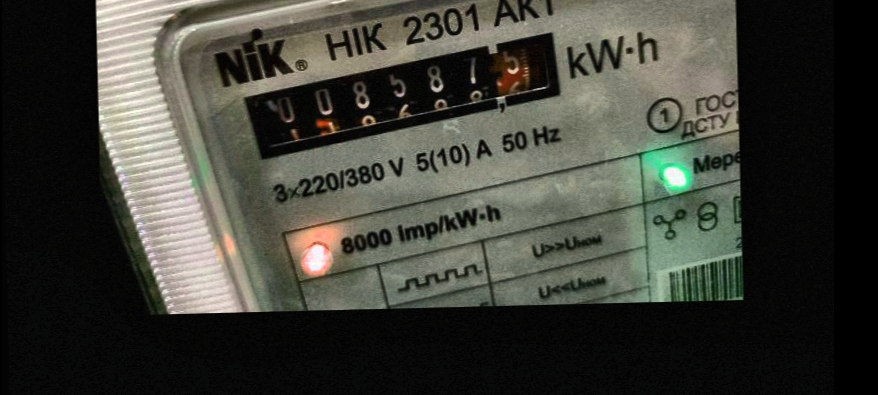0: (311, 82, 338, 117), (273, 91, 300, 124)
5: (387, 67, 410, 99), (500, 43, 523, 74)
6: (506, 78, 524, 95)
7: (461, 53, 484, 87)
8: (350, 77, 375, 110), (424, 60, 447, 94)
screen: (235, 30, 585, 161)
